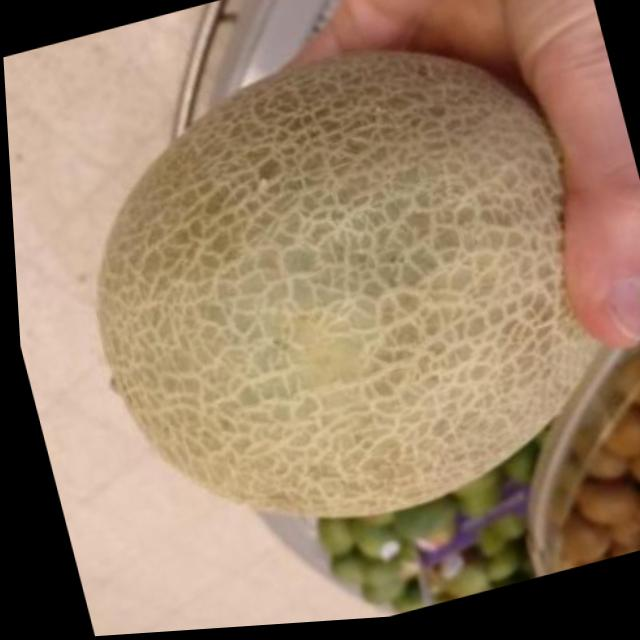Cantaloupe: (41, 12, 626, 576)
